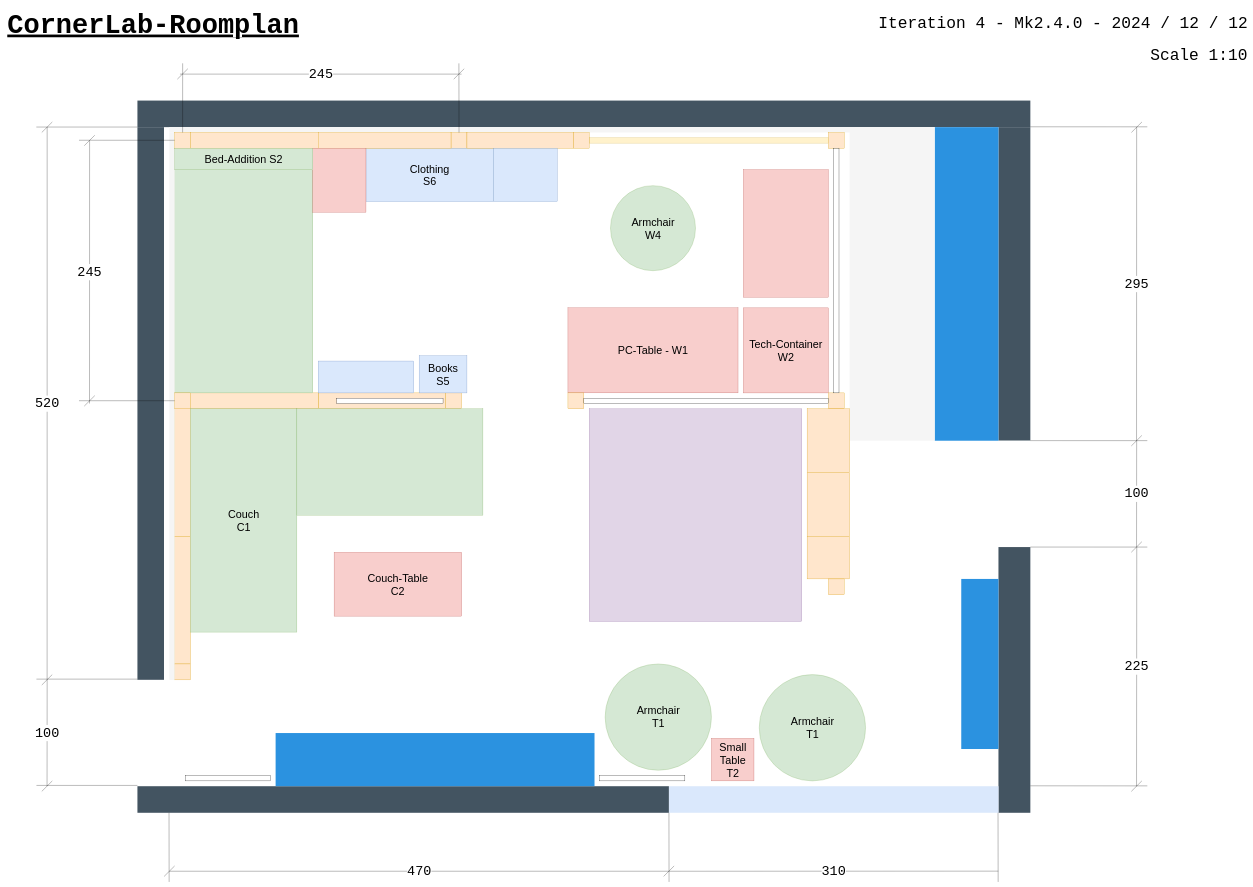
Some shapes in this 1253 by 887 pixel diagram are drawn without their labels. The centre of each missing label's shape, as x and y in pixels:
Bed S 1: point 243,281
Clothing S7: point 525,175
Drum-Set DS: point 695,515
Night-Stand S3: point 339,180
Shelf - S4: point 366,377
Side-Table W3: point 785,233
